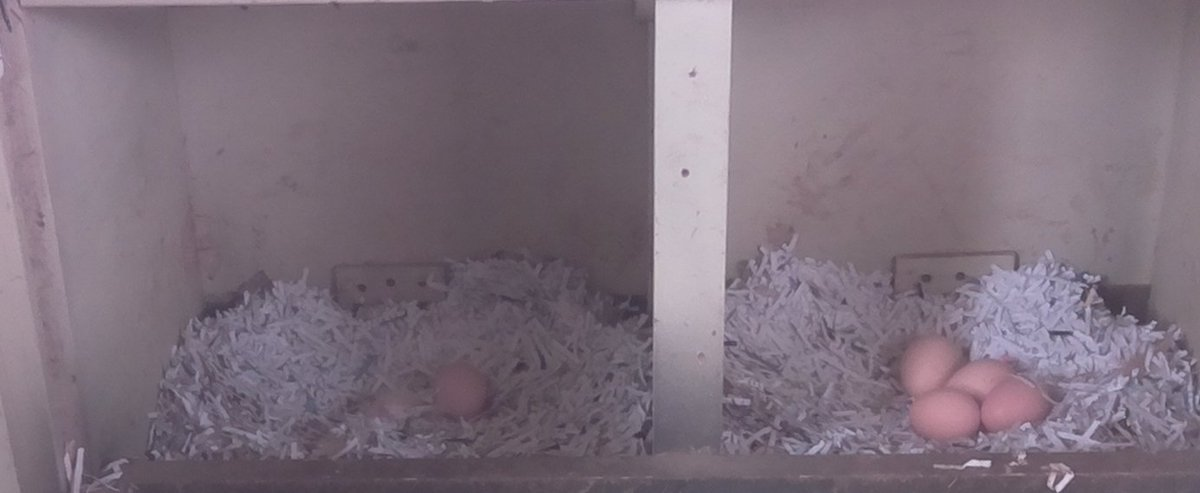egg: (978, 369, 1059, 437), (893, 327, 966, 399), (905, 387, 984, 446), (427, 357, 494, 425), (943, 359, 1022, 397)
